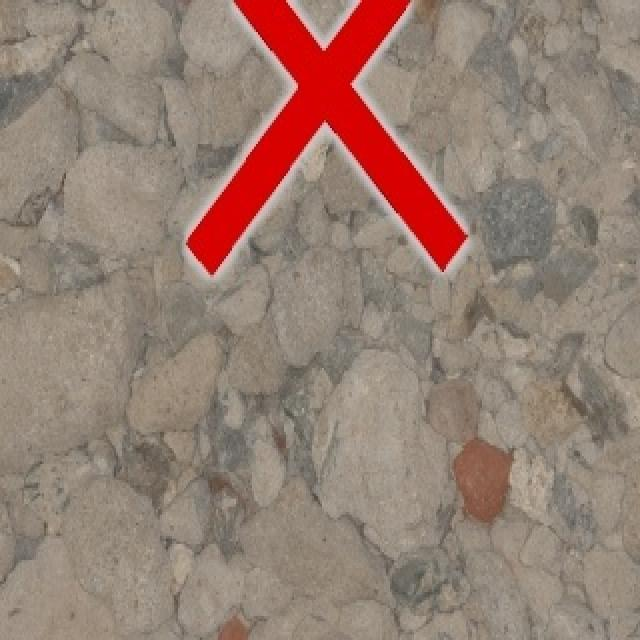x_marker: (187, 0, 465, 275)
